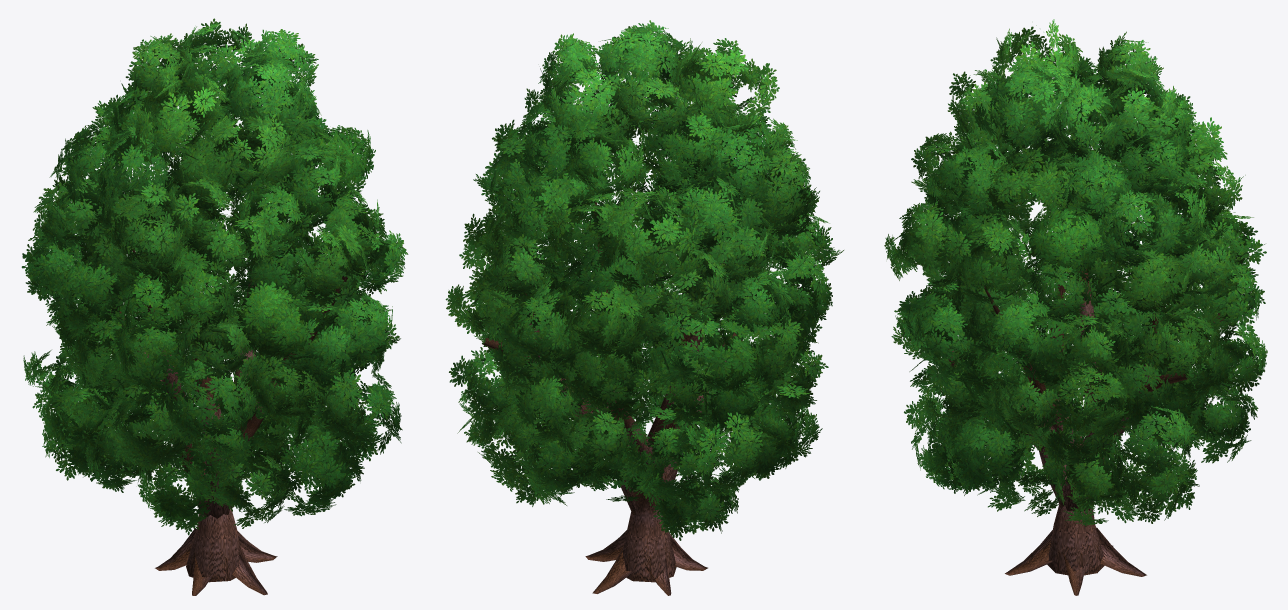
File: mm6_deco_tree10.glb
3 renders of one model, left to right at view 1: azimuth 30°, elevation 25°; view 2: azimuth 150°, elevation 25°; view 3: azimuth 270°, elevation 25°, orthographic.
Parts seen in each view (by area): view 1: Tree; view 2: Tree; view 3: Tree.
Boxes of the visible parts, x1=… form: Tree: x1=21, y1=18, x2=408, y2=595; Tree: x1=445, y1=20, x2=843, y2=595; Tree: x1=884, y1=19, x2=1267, y2=595.
Size of the model in its own units: 5.25 by 7.49 by 5.1.
2 materials, 2 textured.
